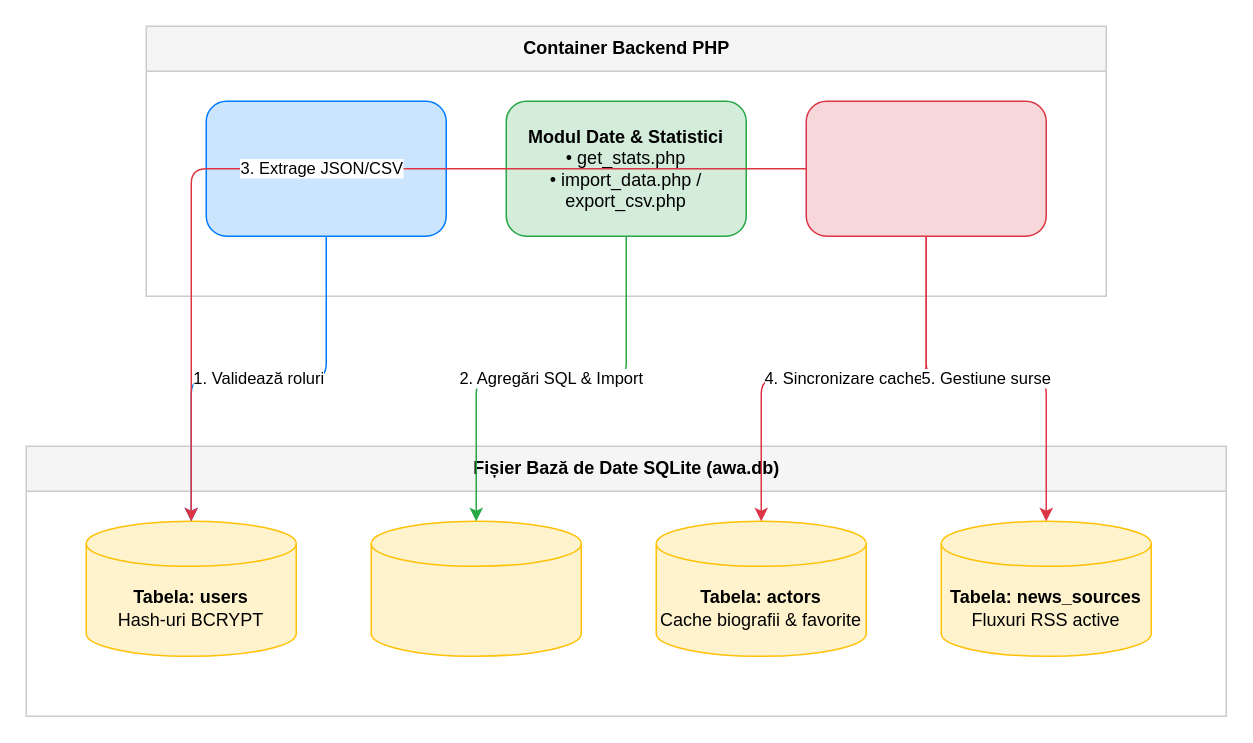
The diagram is 1253 pixels wide and 743 high, and some of its shapes have lost their labels. The shapes that lost their labels are listed below. From the top down, each one's centre as x and y in pixels, then its label:
At pixel 325 168: "Modul Securitate Sesiuni • login.php • check_session.php".
At pixel 925 168: "Modul Management & Catalog • export_users.php • search_actors.php / RSS".
At pixel 475 588: "Tabela: nominations Date istorice premii".
